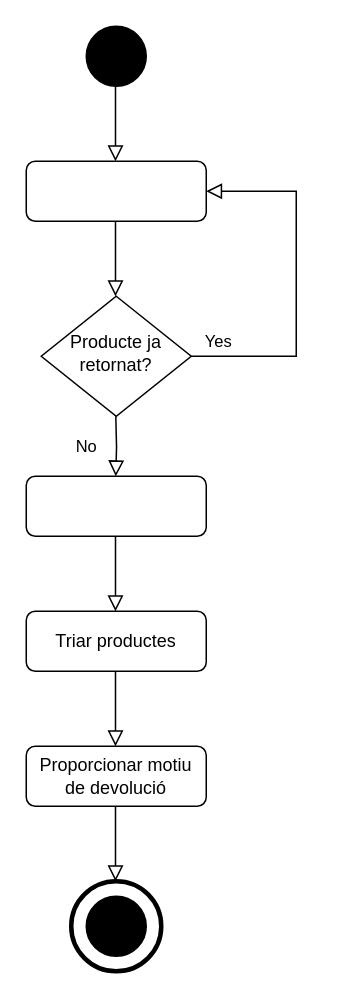
Image size: 338x999. Some labels were removed from this diagram. Each missing label, with the centre of its shape:
Mostrar llista de productes: (115,505)
Seleccionar devolució producte: (115,190)
